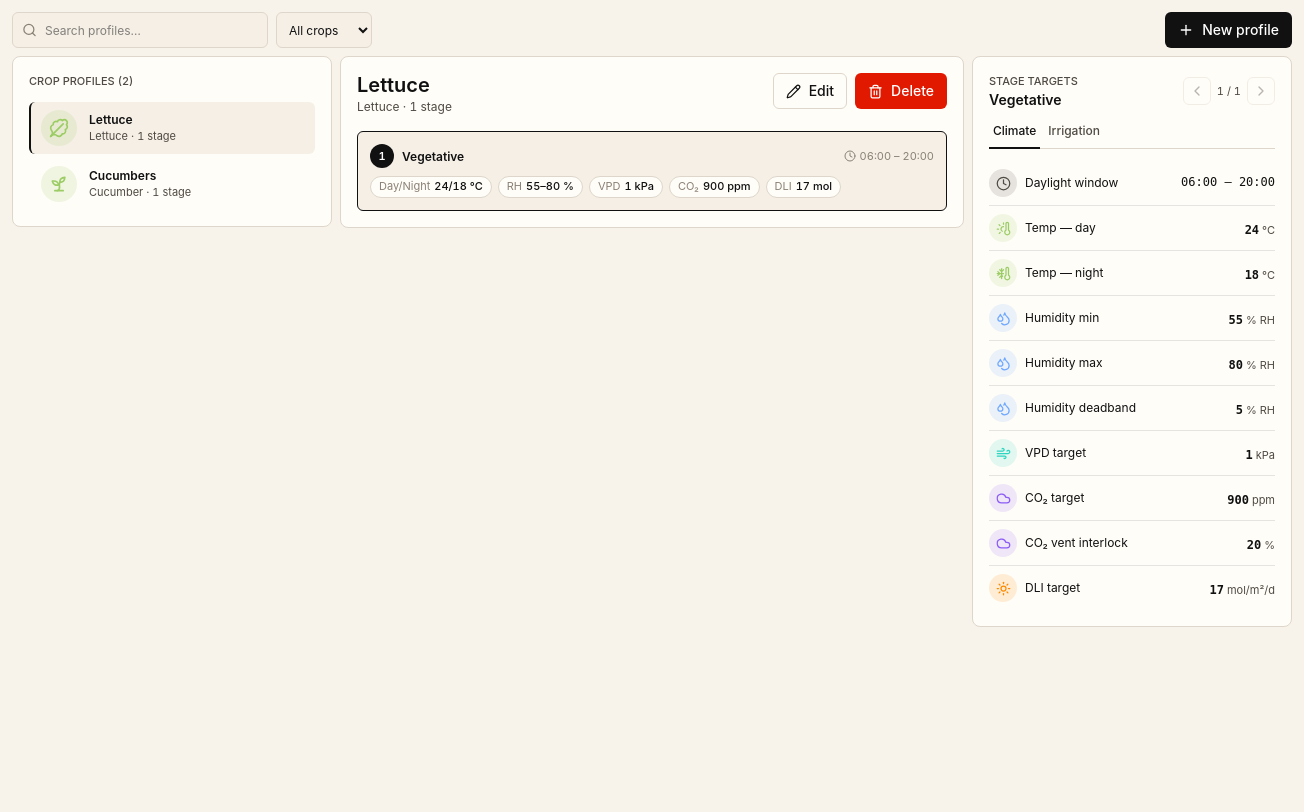
Test: ProfileManagement › filters the library by crop
Expected: the text "Cucumbers" is shown, [89,168,156,183]
Select "cucumber" in the dropdown named "Filter by crop" at x=324, y=30, box [276,12,372,48]
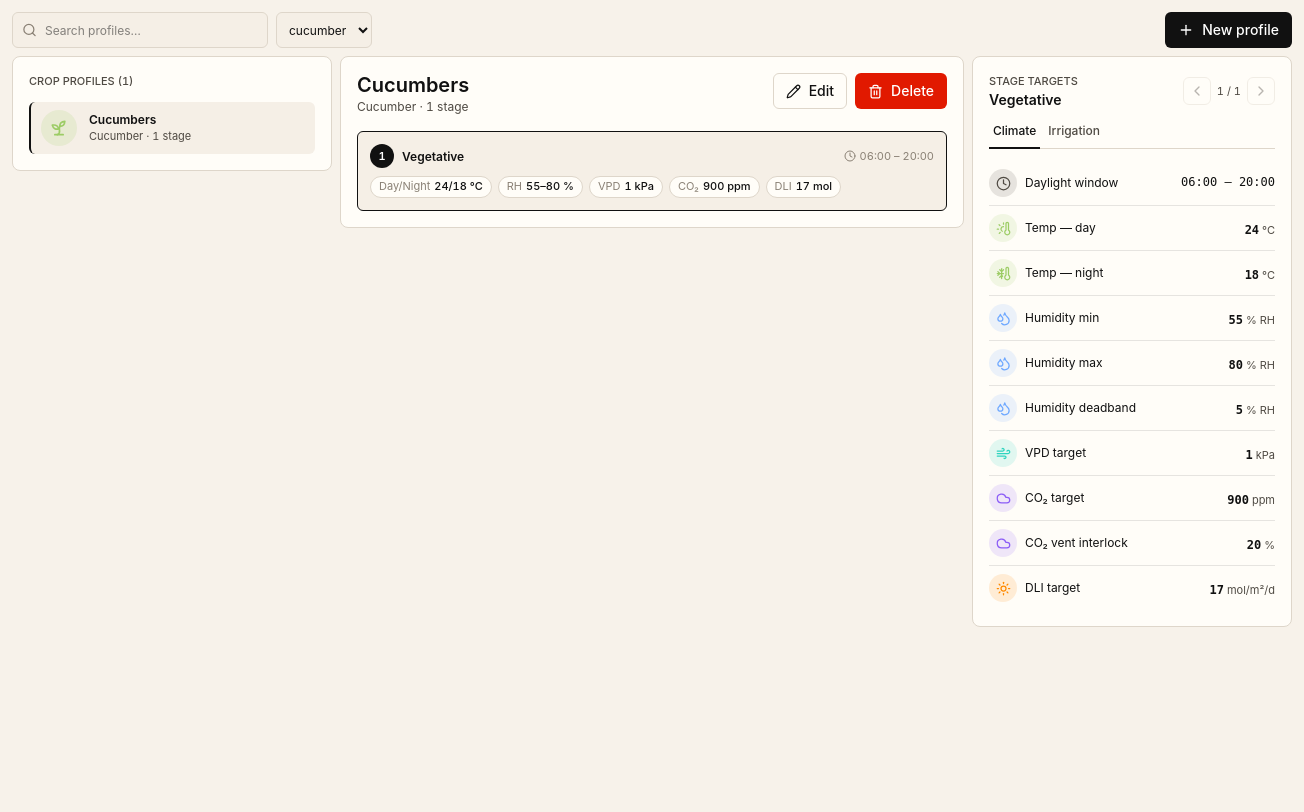
Expected: the text "Cucumbers" is shown, [89,112,156,127]
Now the button "Lettuce" is gone
